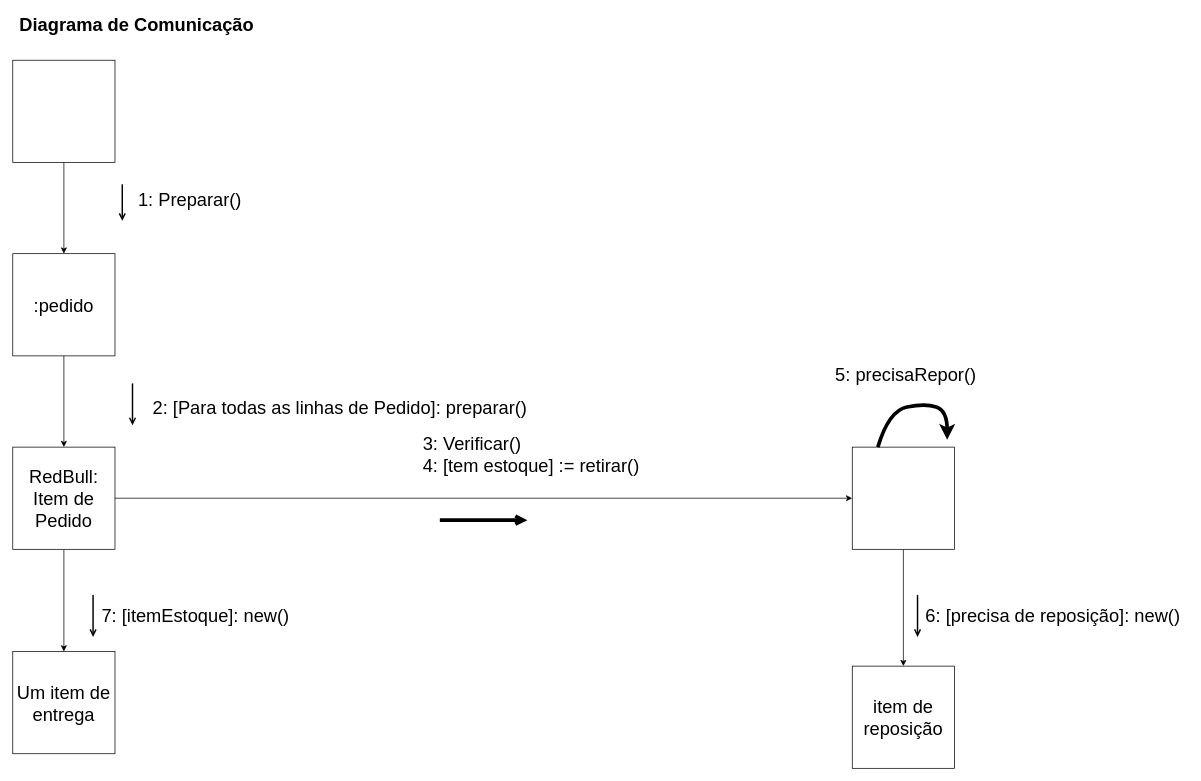
The diagram is 1201 pixels wide and 781 high, and some of its shapes have lost their labels. The shapes that lost their labels are listed below. From the top down, each one's centre as x and y in pixels, then its label:
(63,110): Janela Entrada de Pedido
(903,497): Estoque de RedBull Item de Estoque
